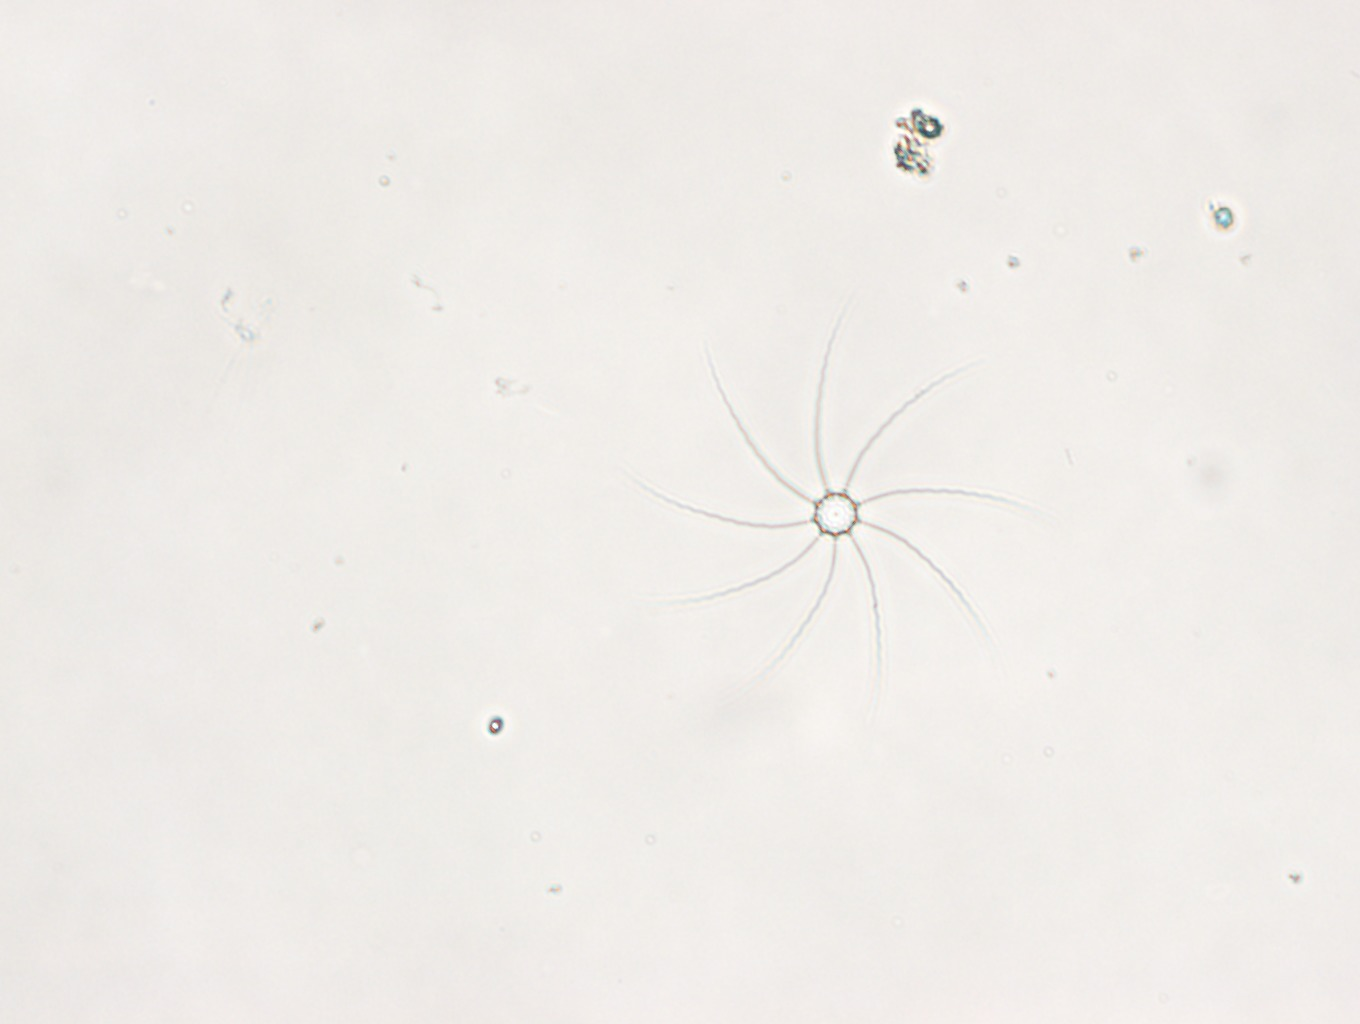bacteriastrum: (641, 308, 1044, 697)
